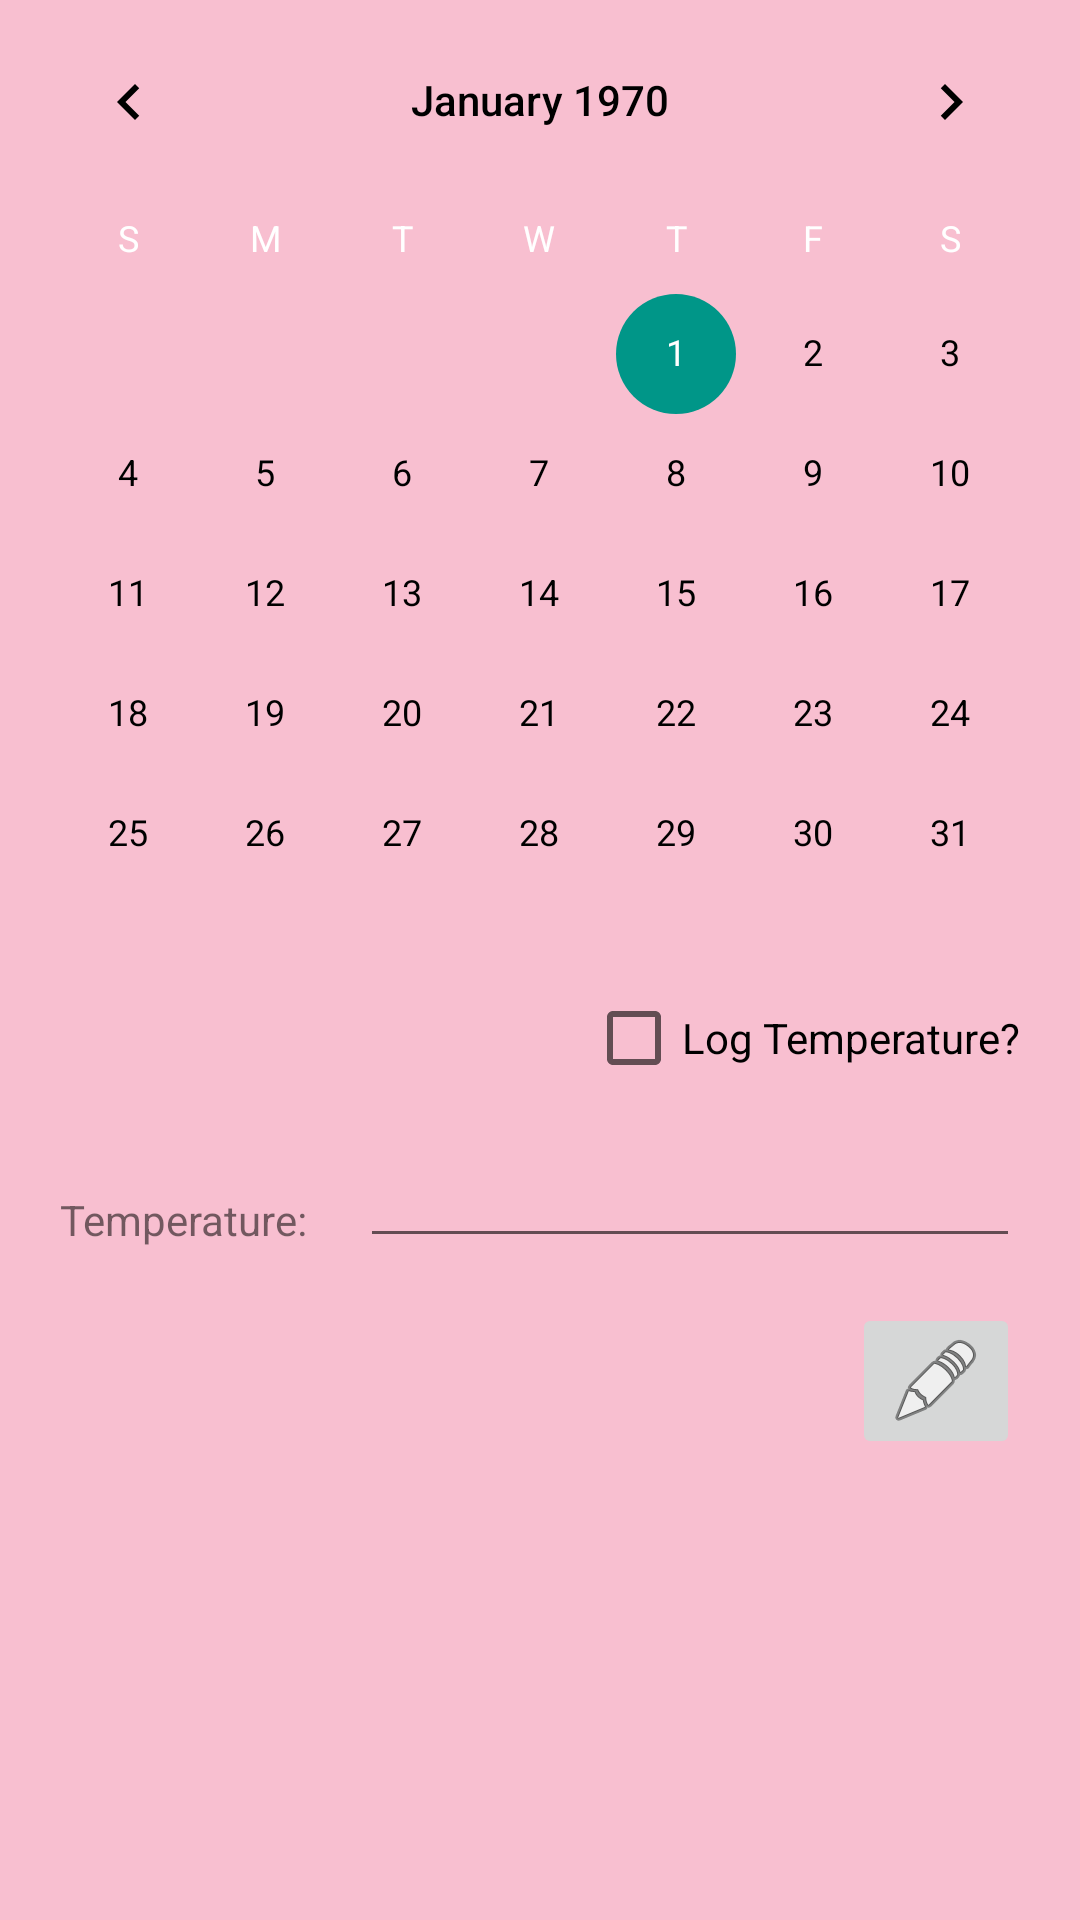

Screen size 1080px×1920px. Icon name, then its center in pixels as (x=x, y=y):
Save and Edit Button: (x=936, y=1381)
